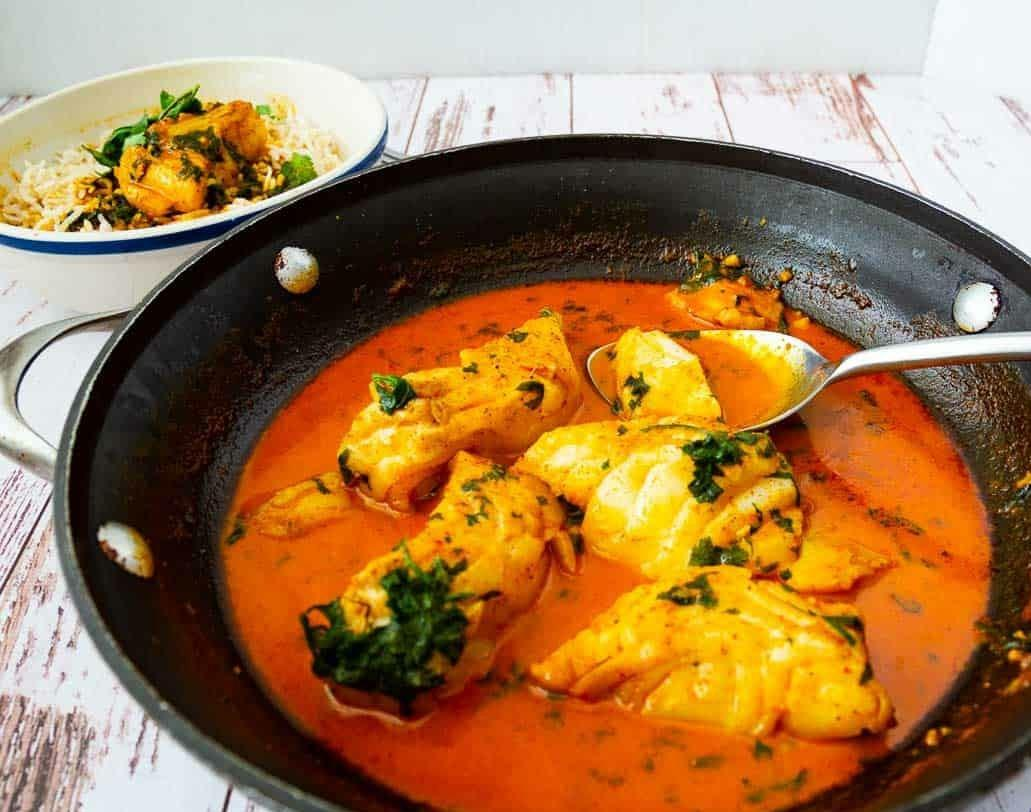FishCurry: (217, 277, 992, 812)
